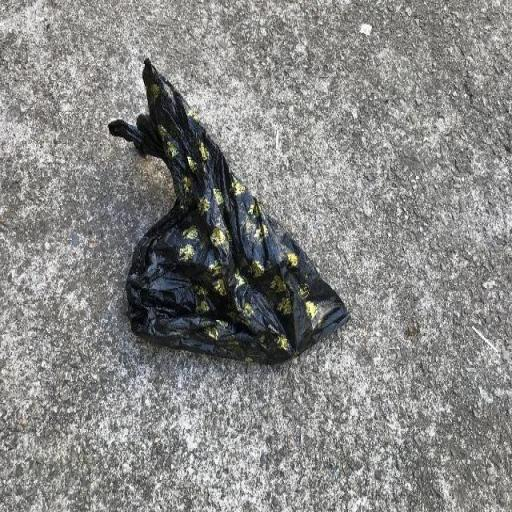plastic-bag: (107, 57, 355, 365)
